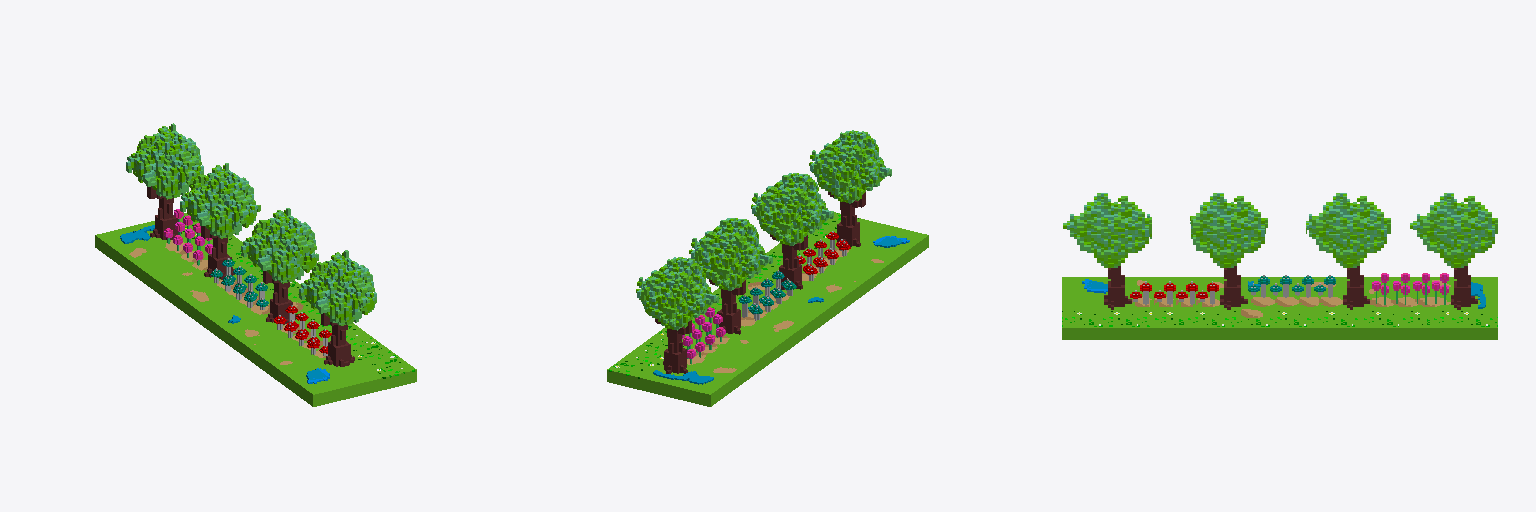
3 renders of one model, left to right at view 1: azimuth 30°, elevation 25°; view 2: azimuth 150°, elevation 25°; view 3: azimuth 270°, elevation 25°, orthographic.
Visible parts, largest first — view 1: Model; view 2: Model; view 3: Model.
Boxes of the visible parts, x1,y1,x2,y2 form: Model: [95, 123, 416, 406]; Model: [607, 130, 928, 406]; Model: [1062, 193, 1497, 339].
Size of the model in its own units: 8.75 by 9.5 by 32.
Materials: 1 (1 with a texture image).